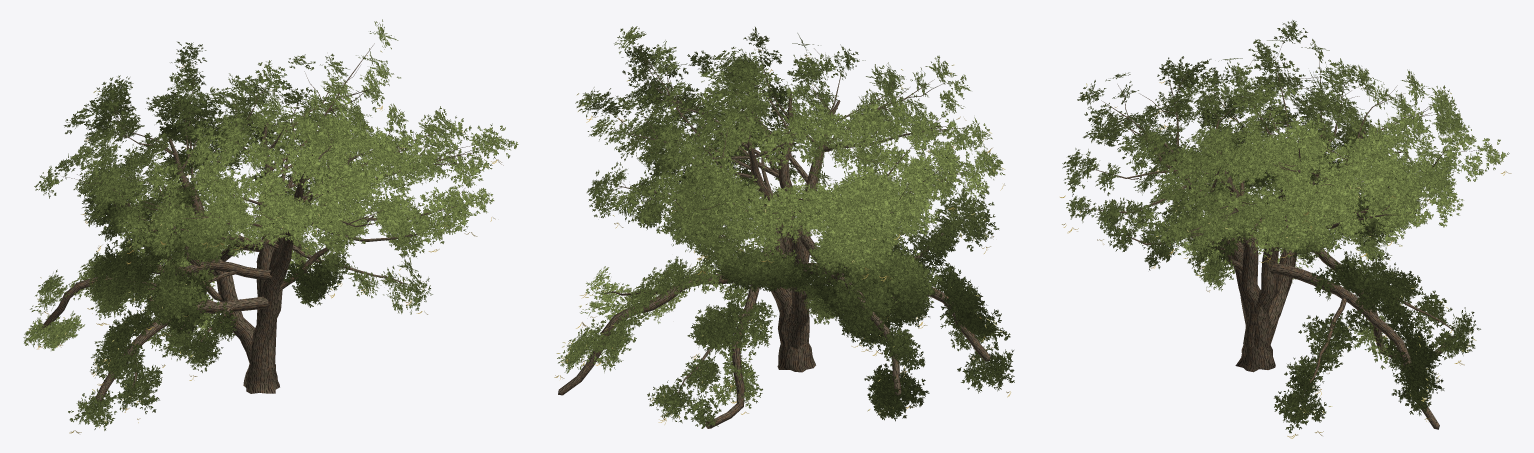
The model's file is old-b.lod0.glb.
3 views of the same model, side by side, from view 1: azimuth 30°, elevation 25°; view 2: azimuth 150°, elevation 25°; view 3: azimuth 270°, elevation 25° (orthographic). The views are drawn at different scales.
Visible parts, largest first — view 1: foliage, bark, fruit; view 2: foliage, bark, fruit; view 3: foliage, bark, fruit.
Part boxes in pixels (left/top/right/bottom): foliage: left=23, top=19, right=518, bottom=430; bark: left=41, top=43, right=483, bottom=401; fruit: left=36, top=64, right=503, bottom=433; foliage: left=557, top=26, right=1014, bottom=428; bark: left=558, top=46, right=990, bottom=428; fruit: left=554, top=49, right=1010, bottom=424; foliage: left=1062, top=20, right=1509, bottom=433; bark: left=1083, top=36, right=1478, bottom=429; fruit: left=1060, top=81, right=1511, bottom=438.
Size of the model in its own units: 13.95 by 10 by 13.2.
5 materials, 2 textured.
